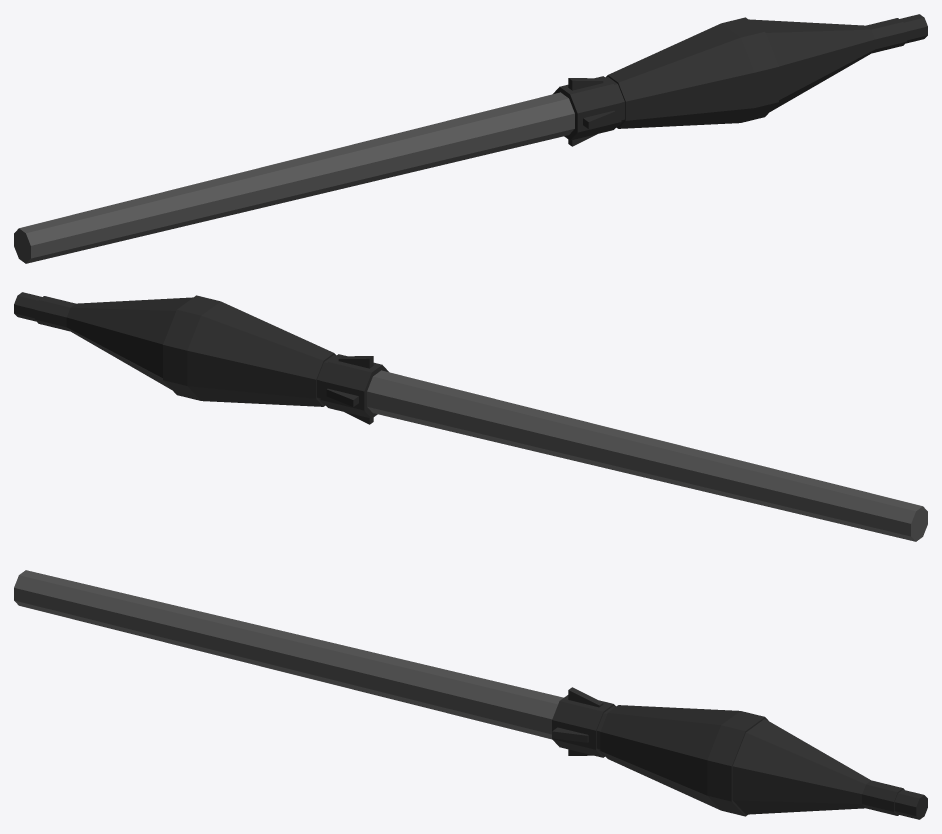
File: HeavyWeapon2_05_3.fbx
3 renders of one model, top to bottom at view 1: azimuth 30°, elevation 25°; view 2: azimuth 150°, elevation 25°; view 3: azimuth 330°, elevation 25°, orthographic.
Visible parts, largest first — view 1: HeavyWeapon2_05_3; view 2: HeavyWeapon2_05_3; view 3: HeavyWeapon2_05_3.
Boxes of the visible parts, x1,y1,x2,y2 form: HeavyWeapon2_05_3: (14, 14, 927, 263); HeavyWeapon2_05_3: (14, 292, 927, 541); HeavyWeapon2_05_3: (14, 570, 927, 819).
Bounding box in the file's own units: 1.07 × 0.097 × 0.097.
